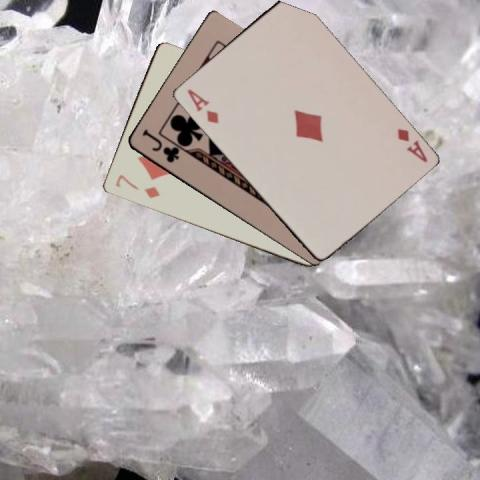7d: (112, 171, 161, 200)
Ad: (184, 86, 220, 125), (393, 125, 429, 164)
Jc: (139, 127, 180, 165)
